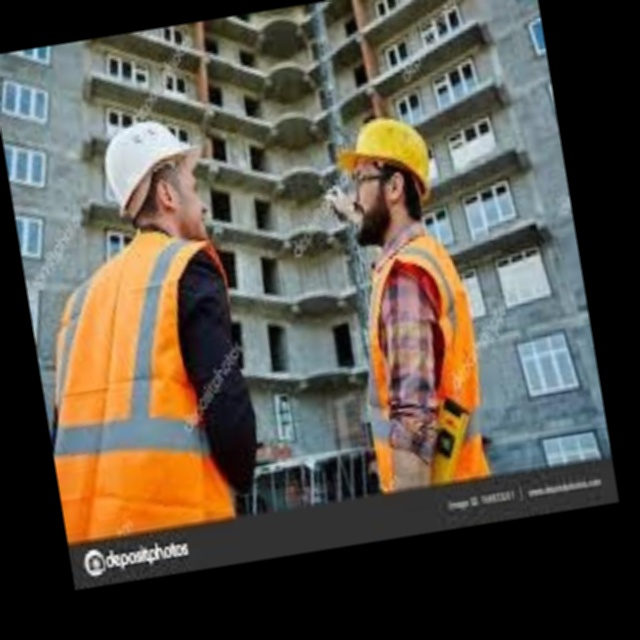Con_Chaleco: (21, 220, 267, 544), (344, 233, 503, 495)
